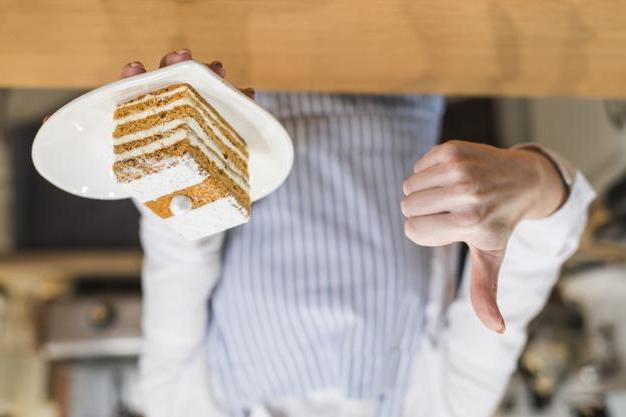thumbsdown: (400, 139, 506, 334)
